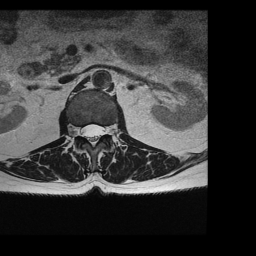CCS_normal: (89, 120, 96, 150)
LFS_normal: (105, 120, 110, 140)
LLS_normal: (97, 120, 104, 144)
RFS_normal: (75, 119, 82, 141)
RLS_normal: (82, 120, 89, 143)
